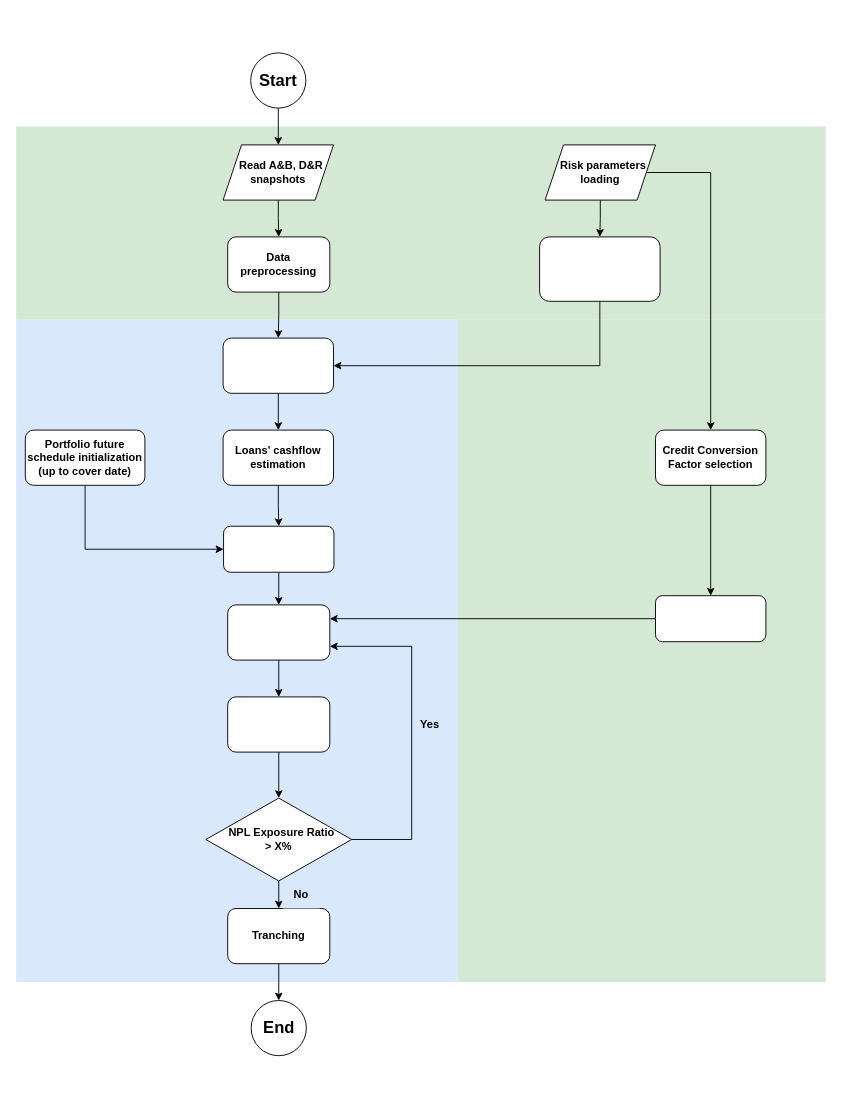
This 841x1108 diagram has some shape labels left out. The box of each missing label's shape, as (x1, y1, x2, y2) in pixels:
Cashflow alignment: (223, 525, 334, 572)
Estimated guarantee use projection: (227, 604, 330, 660)
Lifetime Expected Loss calculation: (227, 696, 330, 752)
Marginal Probability of Default curves calculation: (539, 236, 660, 301)
Portfolio class creation: (222, 337, 334, 393)
Scheduled Stop Inclusion Date integration: (655, 595, 766, 642)
